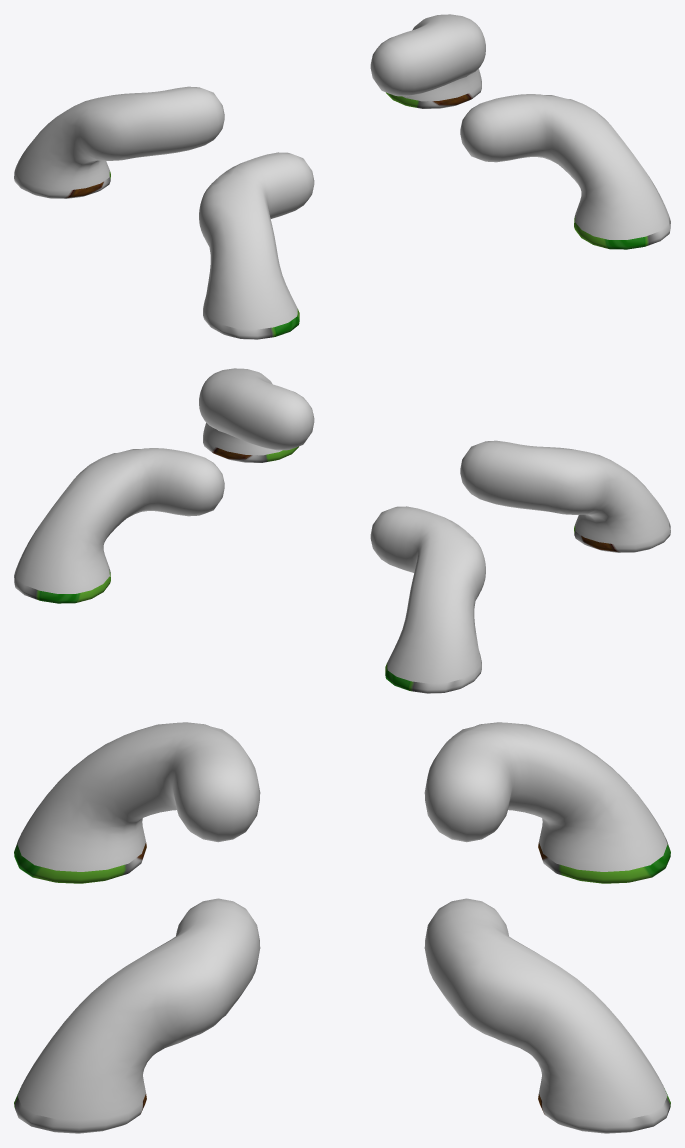
Rendered from turtle-legs-smoothed.gltf.
3 renders of one model, top to bottom at view 1: azimuth 30°, elevation 25°; view 2: azimuth 150°, elevation 25°; view 3: azimuth 270°, elevation 25°, orthographic. The views are drawn at different scales.
Bounding box in the file's own units: 2.26 × 0.5365 × 2.04.
1 material, 1 textured.
